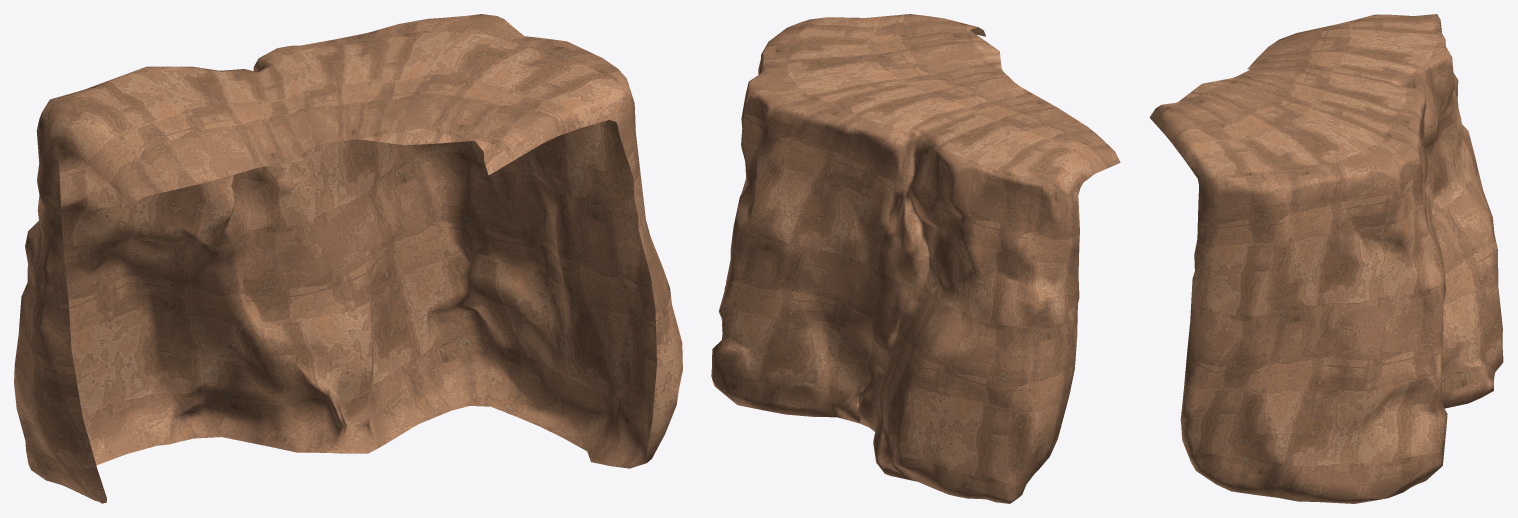
Rendered from Ob_RockCliff19.fbx.
3 views of the same model, side by side, from view 1: azimuth 30°, elevation 25°; view 2: azimuth 150°, elevation 25°; view 3: azimuth 270°, elevation 25° (orthographic). The views are drawn at different scales.
Visible parts, largest first — view 1: Ob_RockCliff19; view 2: Ob_RockCliff19; view 3: Ob_RockCliff19.
Boxes of the visible parts, x1=… form: Ob_RockCliff19: x1=14, y1=14, x2=682, y2=503; Ob_RockCliff19: x1=711, y1=14, x2=1120, y2=503; Ob_RockCliff19: x1=1149, y1=14, x2=1503, y2=503.
Bounding box in the file's own units: 28766 × 22969 × 21848.
